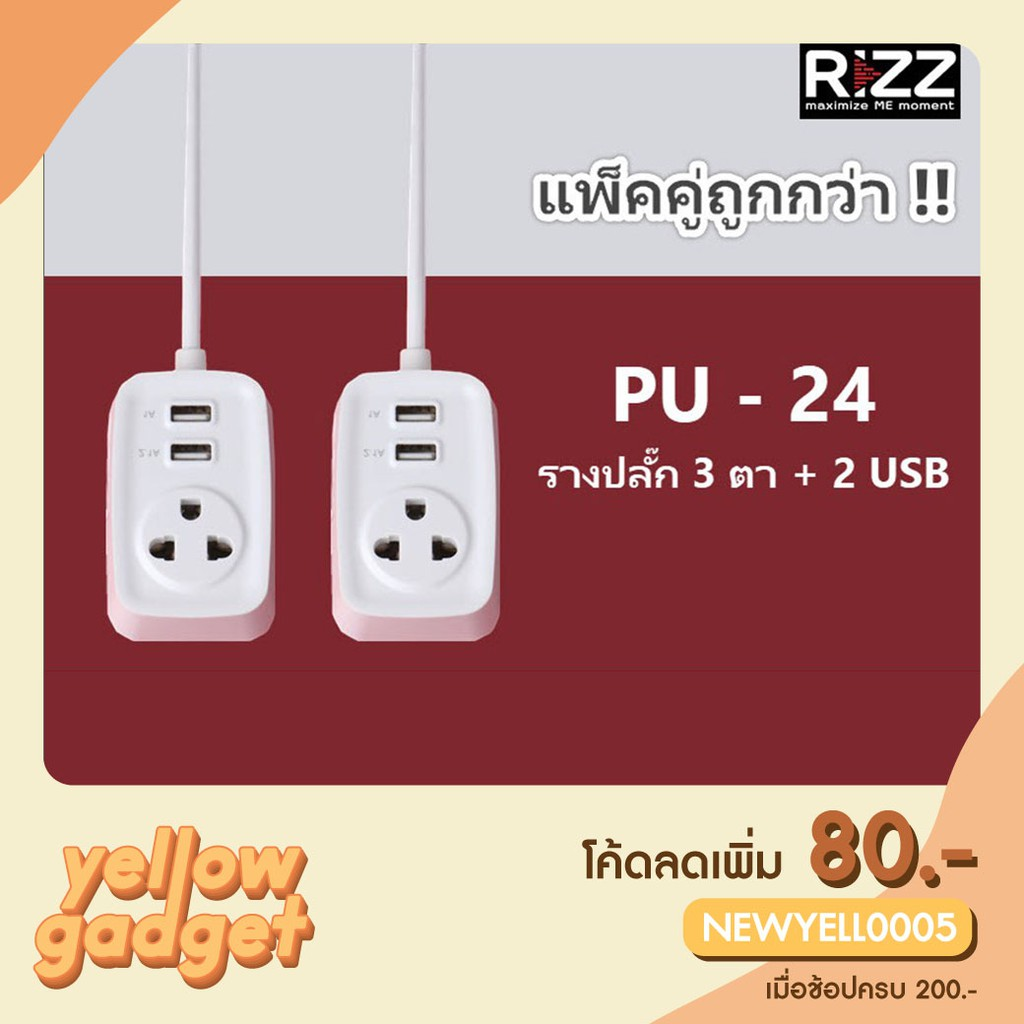Three_eye_plug: (314, 364, 517, 650), (99, 364, 282, 651)
